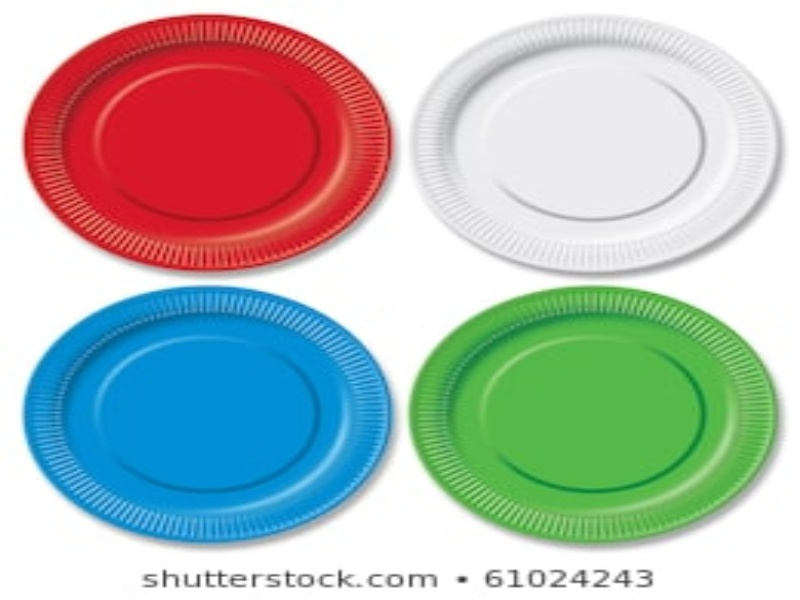plastic-plate: (408, 13, 787, 275), (18, 285, 394, 547), (403, 283, 779, 545), (21, 14, 395, 271)
